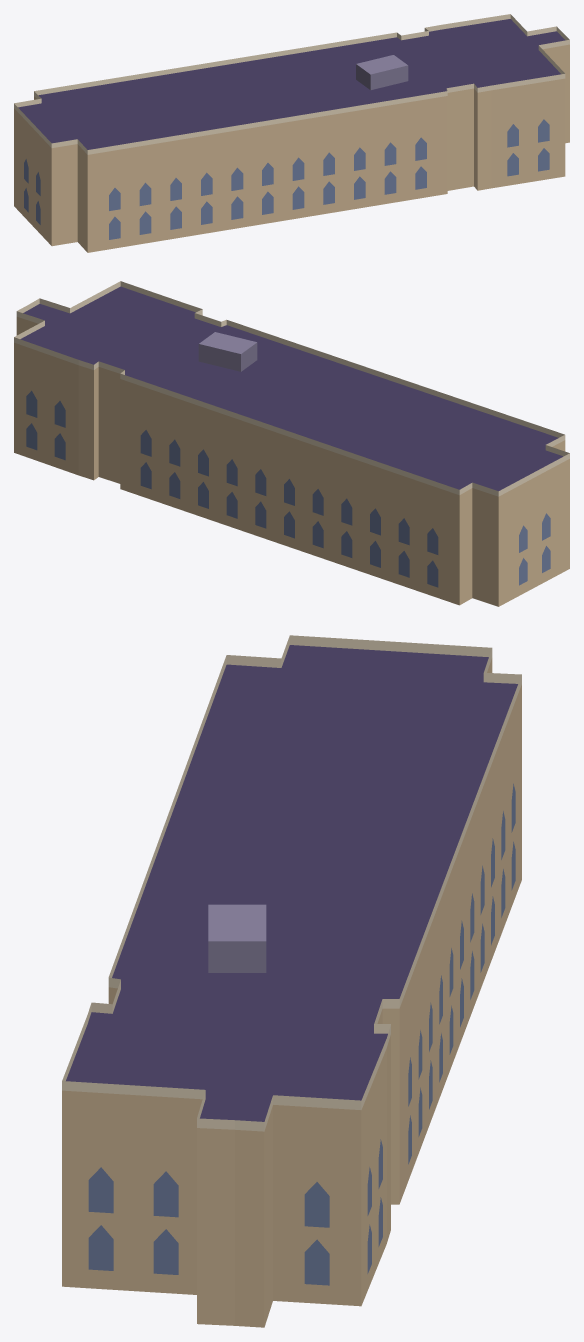
Rendered from b-085-don-rix-clinical-skills-building-day.glb.
The picture shows the model from 3 angles, top to bottom: view 1: azimuth 30°, elevation 25°; view 2: azimuth 150°, elevation 25°; view 3: azimuth 270°, elevation 25°; orthographic projection. The views are drawn at different scales.
Visible parts, largest first — view 1: campus/b-085-don-rix-clinical-skills-building-day-0; view 2: campus/b-085-don-rix-clinical-skills-building-day-0; view 3: campus/b-085-don-rix-clinical-skills-building-day-0.
Boxes of the visible parts, bbox=[...] form: campus/b-085-don-rix-clinical-skills-building-day-0: bbox=[14, 14, 569, 252]; campus/b-085-don-rix-clinical-skills-building-day-0: bbox=[14, 281, 569, 606]; campus/b-085-don-rix-clinical-skills-building-day-0: bbox=[62, 635, 521, 1327].
Bounding box in the file's own units: 59.61 × 13 × 23.8.
